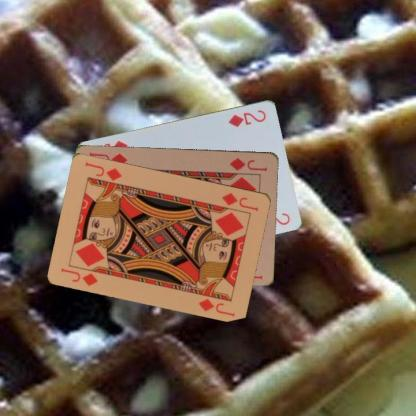2d: (226, 107, 267, 128)
Jd: (58, 265, 100, 287), (220, 190, 260, 212), (227, 155, 269, 172)
